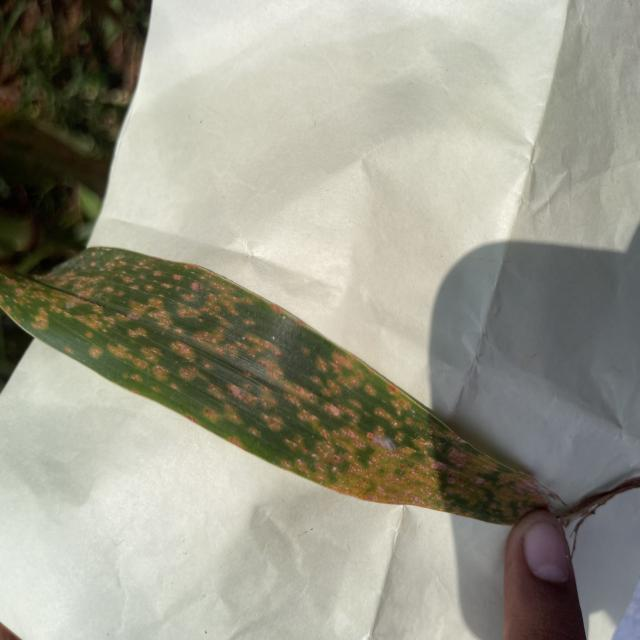millet_rust: (0, 246, 564, 524)
